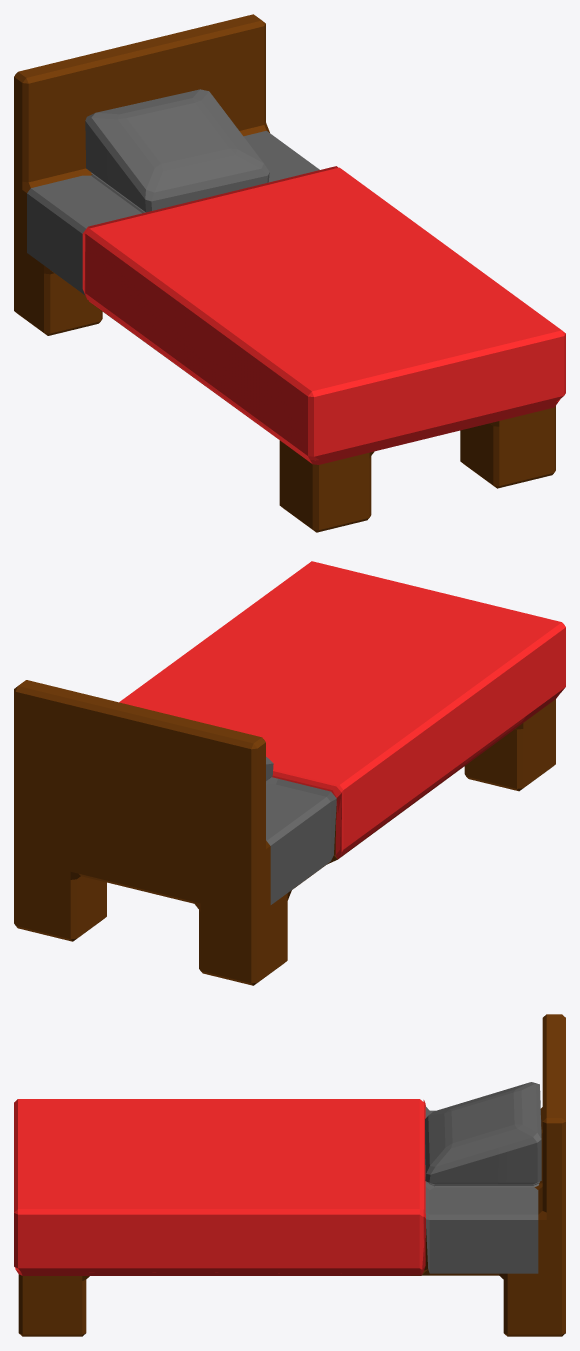
Rendered from bed.fbx.
3 renders of one model, top to bottom at view 1: azimuth 30°, elevation 25°; view 2: azimuth 150°, elevation 25°; view 3: azimuth 270°, elevation 25°, orthographic. The views are drawn at different scales.
Parts seen in each view (by area): view 1: Cube; view 2: Cube; view 3: Cube.
Boxes of the visible parts, x1=… form: Cube: x1=14, y1=14, x2=565, y2=532; Cube: x1=14, y1=561, x2=565, y2=985; Cube: x1=14, y1=1014, x2=565, y2=1336.
Bounding box in the file's own units: 1.99 × 1.78 × 4.07.
